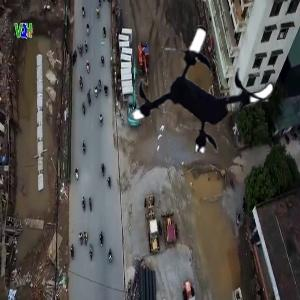drone: (130, 15, 278, 163)
